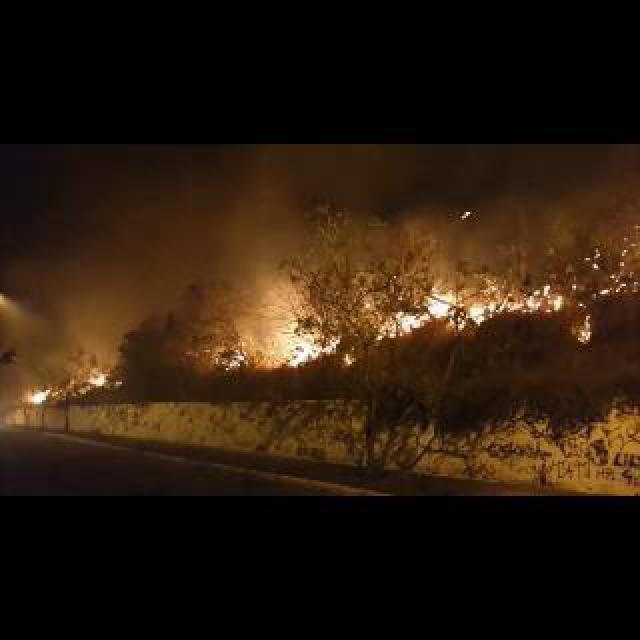Fire: (372, 282, 560, 342), (276, 324, 336, 364), (222, 342, 246, 370), (574, 316, 596, 342), (26, 388, 52, 404), (88, 374, 106, 388)
